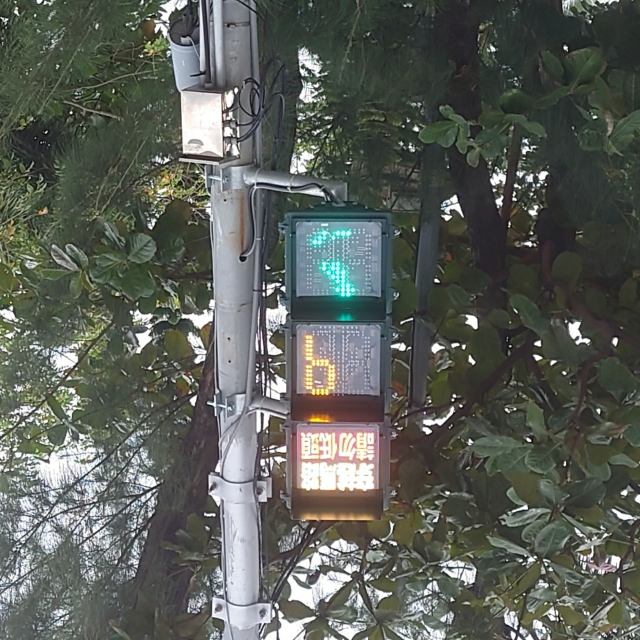green_light: (284, 211, 388, 421)
